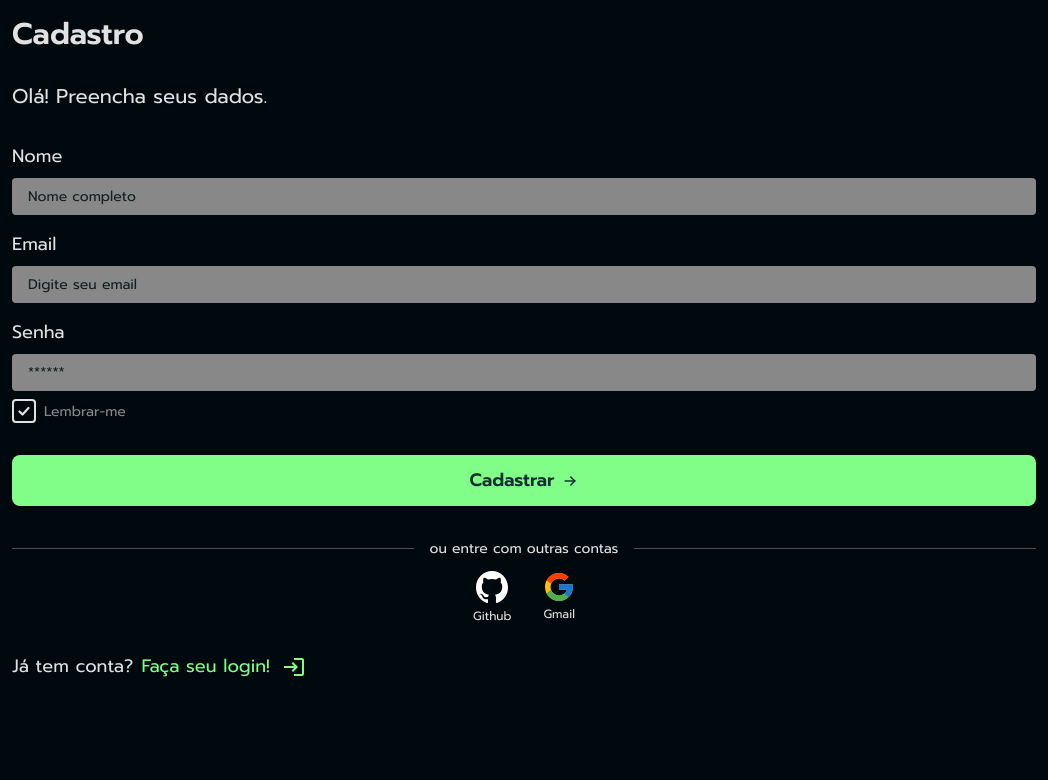
RegisterForm › shows name, email and password format errors and clears them on edit
In the field labelled "Nome": point(524, 196) [12,178,1036,215], type "A"
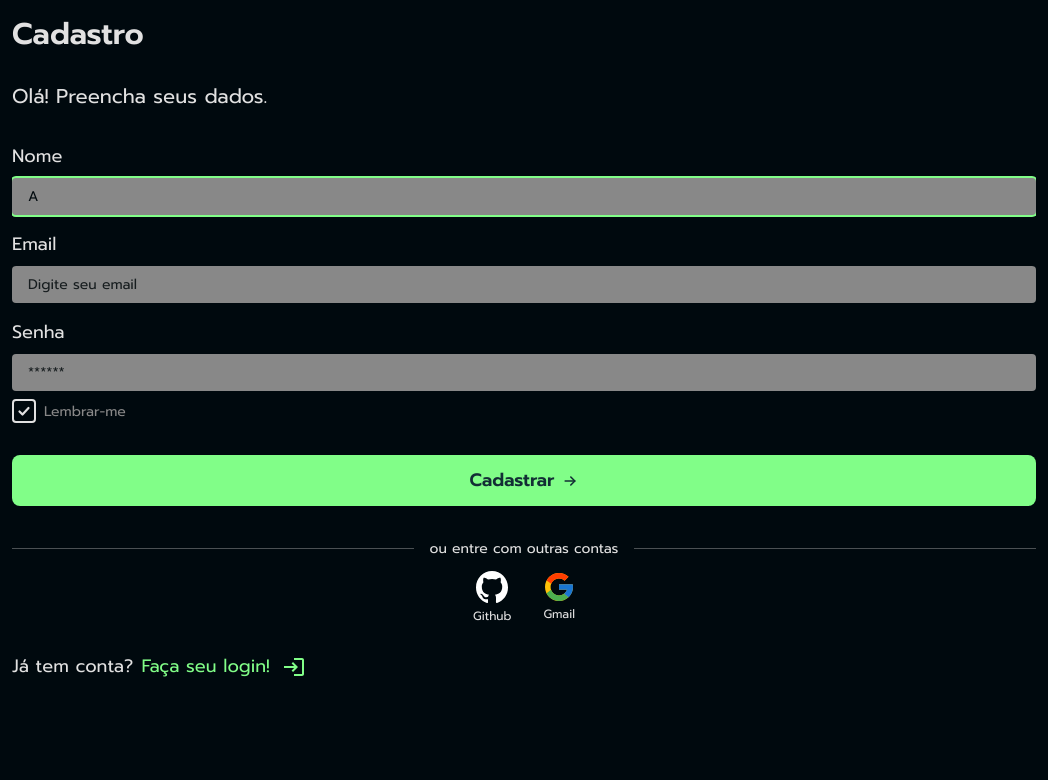
In the field labelled "Email": point(524, 284) [12,266,1036,303], type "email-invalido"
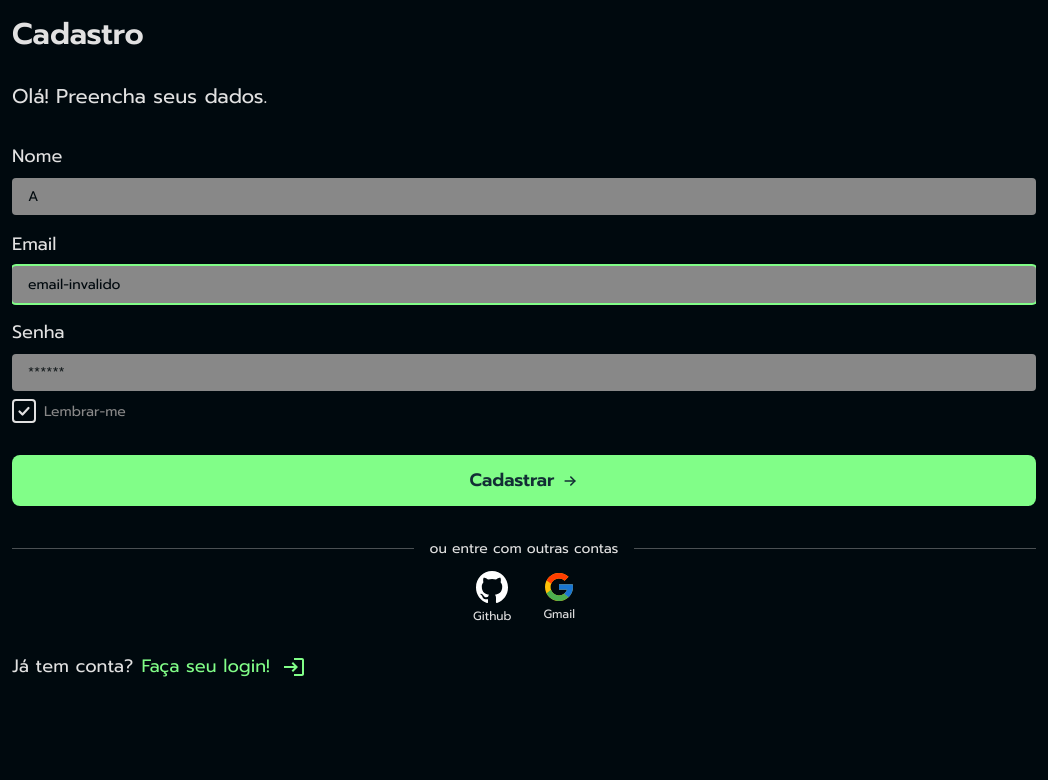
In the password field labelled "Senha": point(524, 372) [12,354,1036,391], type "123"
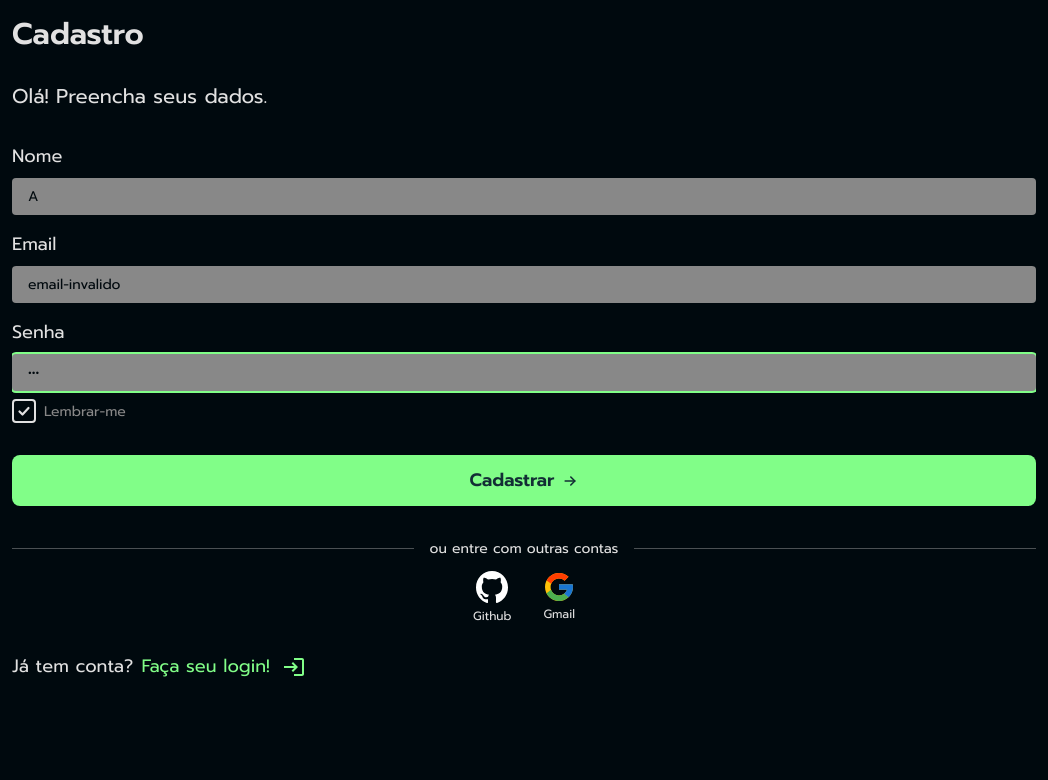
Click the button "Cadastrar": point(524, 480) [12,455,1036,506]
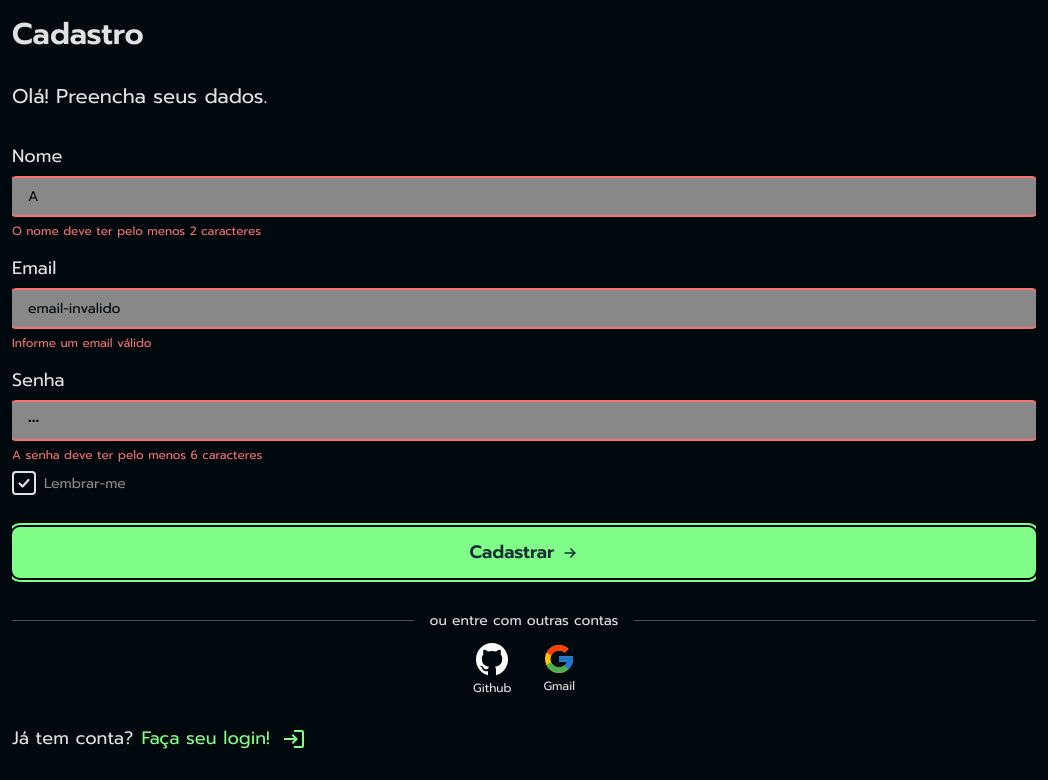
Result: the text "O nome deve ter pelo menos 2 caracteres" is shown at [12,222,261,240]
Result: the text "Informe um email válido" is shown at [12,334,152,352]
Result: the text "A senha deve ter pelo menos 6 caracteres" is shown at [12,446,262,464]
Clear the field labelled "Email": point(524, 308) [12,290,1036,327]
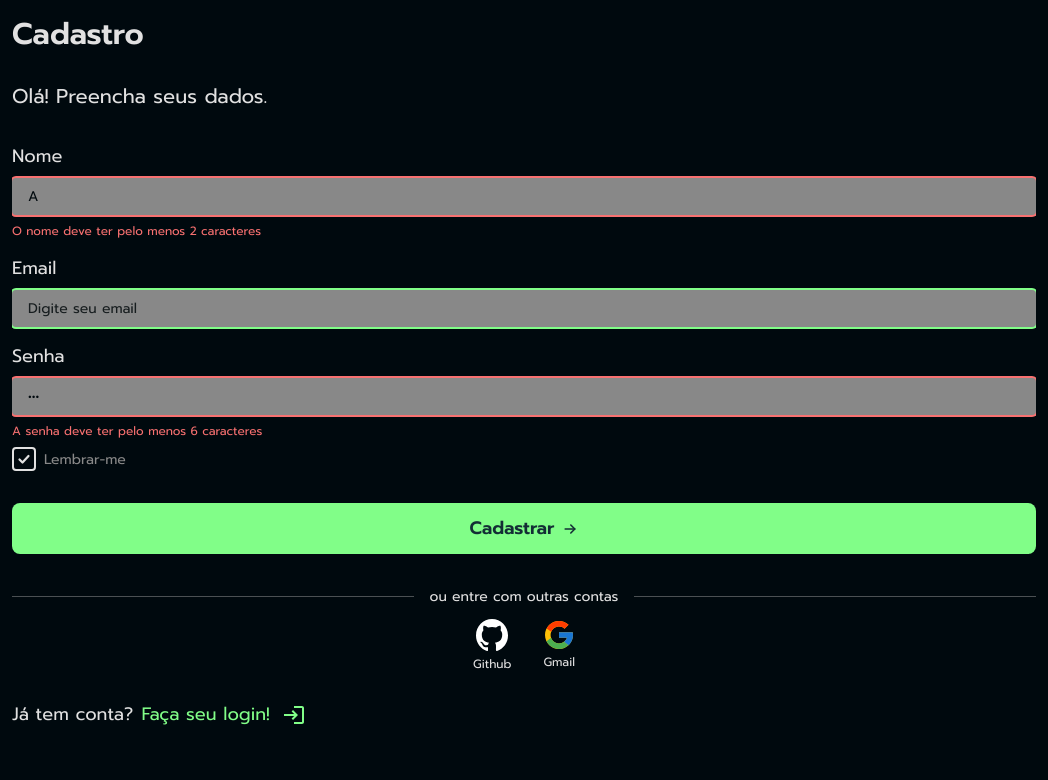
Result: the text "Informe um email válido" is gone
